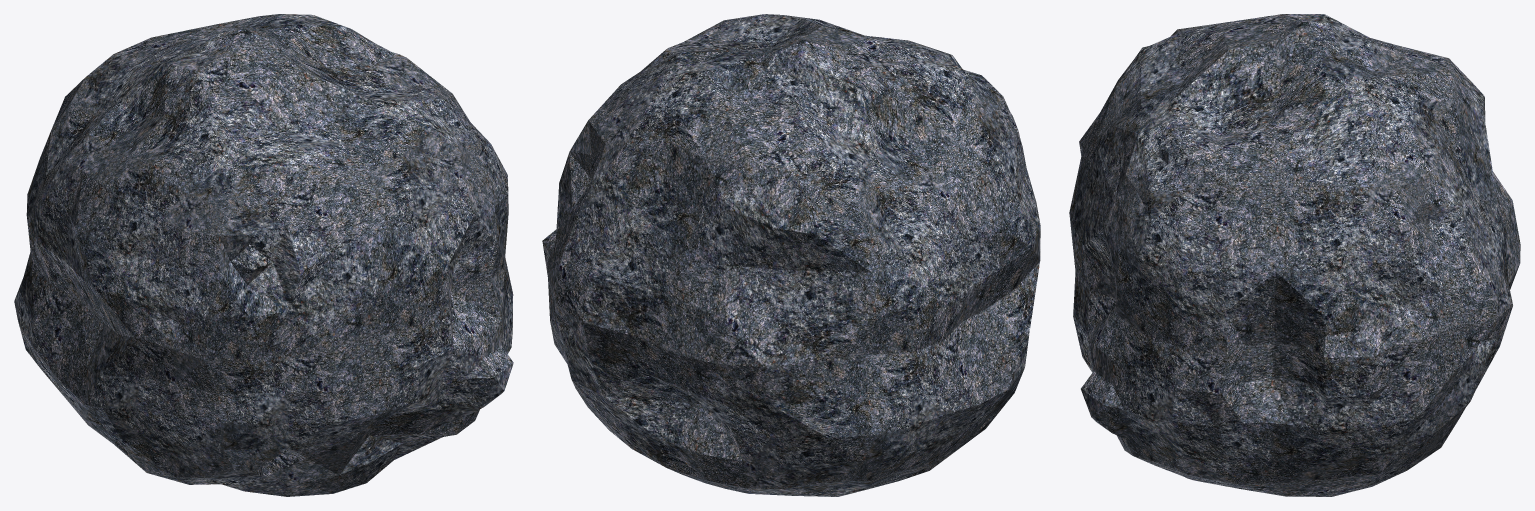
Rendered from planetoid_iron_s01_l1.fbx.
The picture shows the model from 3 angles, left to right: view 1: azimuth 30°, elevation 25°; view 2: azimuth 150°, elevation 25°; view 3: azimuth 270°, elevation 25°; orthographic projection.
Visible parts, largest first — view 1: mesh_node; view 2: mesh_node; view 3: mesh_node.
Boxes of the visible parts, box(x1,y1,x2,y2) form: mesh_node: box(14, 14, 513, 496); mesh_node: box(542, 14, 1040, 496); mesh_node: box(1069, 14, 1520, 496).
Size of the model in its own units: 420 by 431 by 399.
